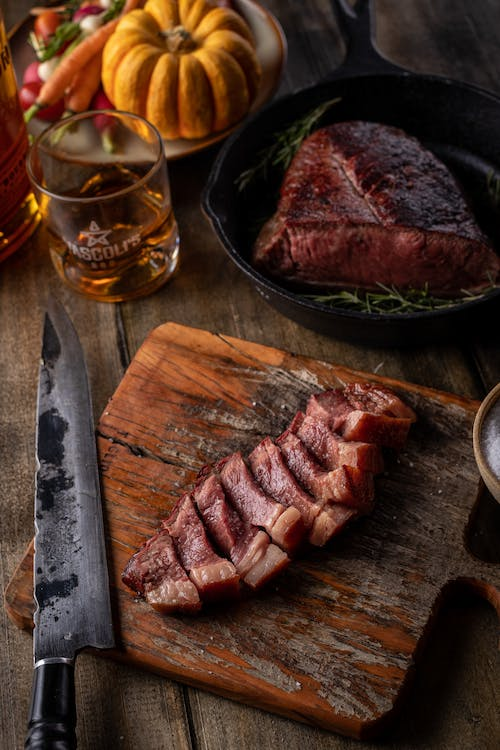alcohol: (22, 106, 185, 306), (0, 0, 47, 266)
knife: (21, 290, 116, 750)
